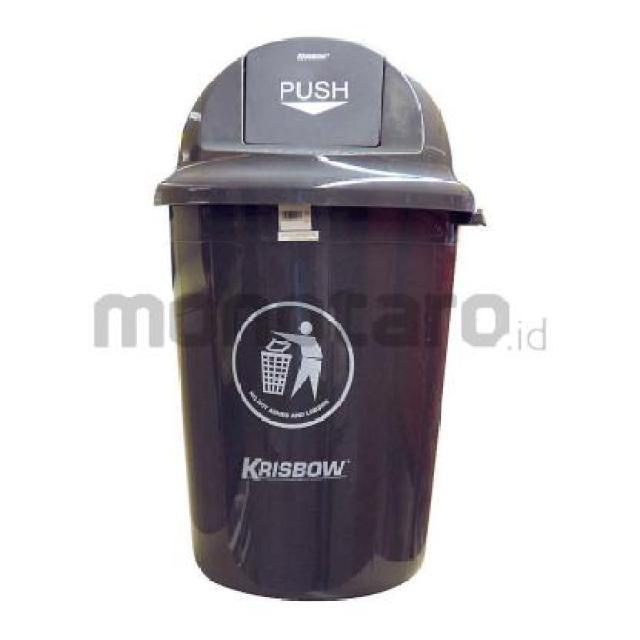garbage container: (126, 20, 497, 625)
